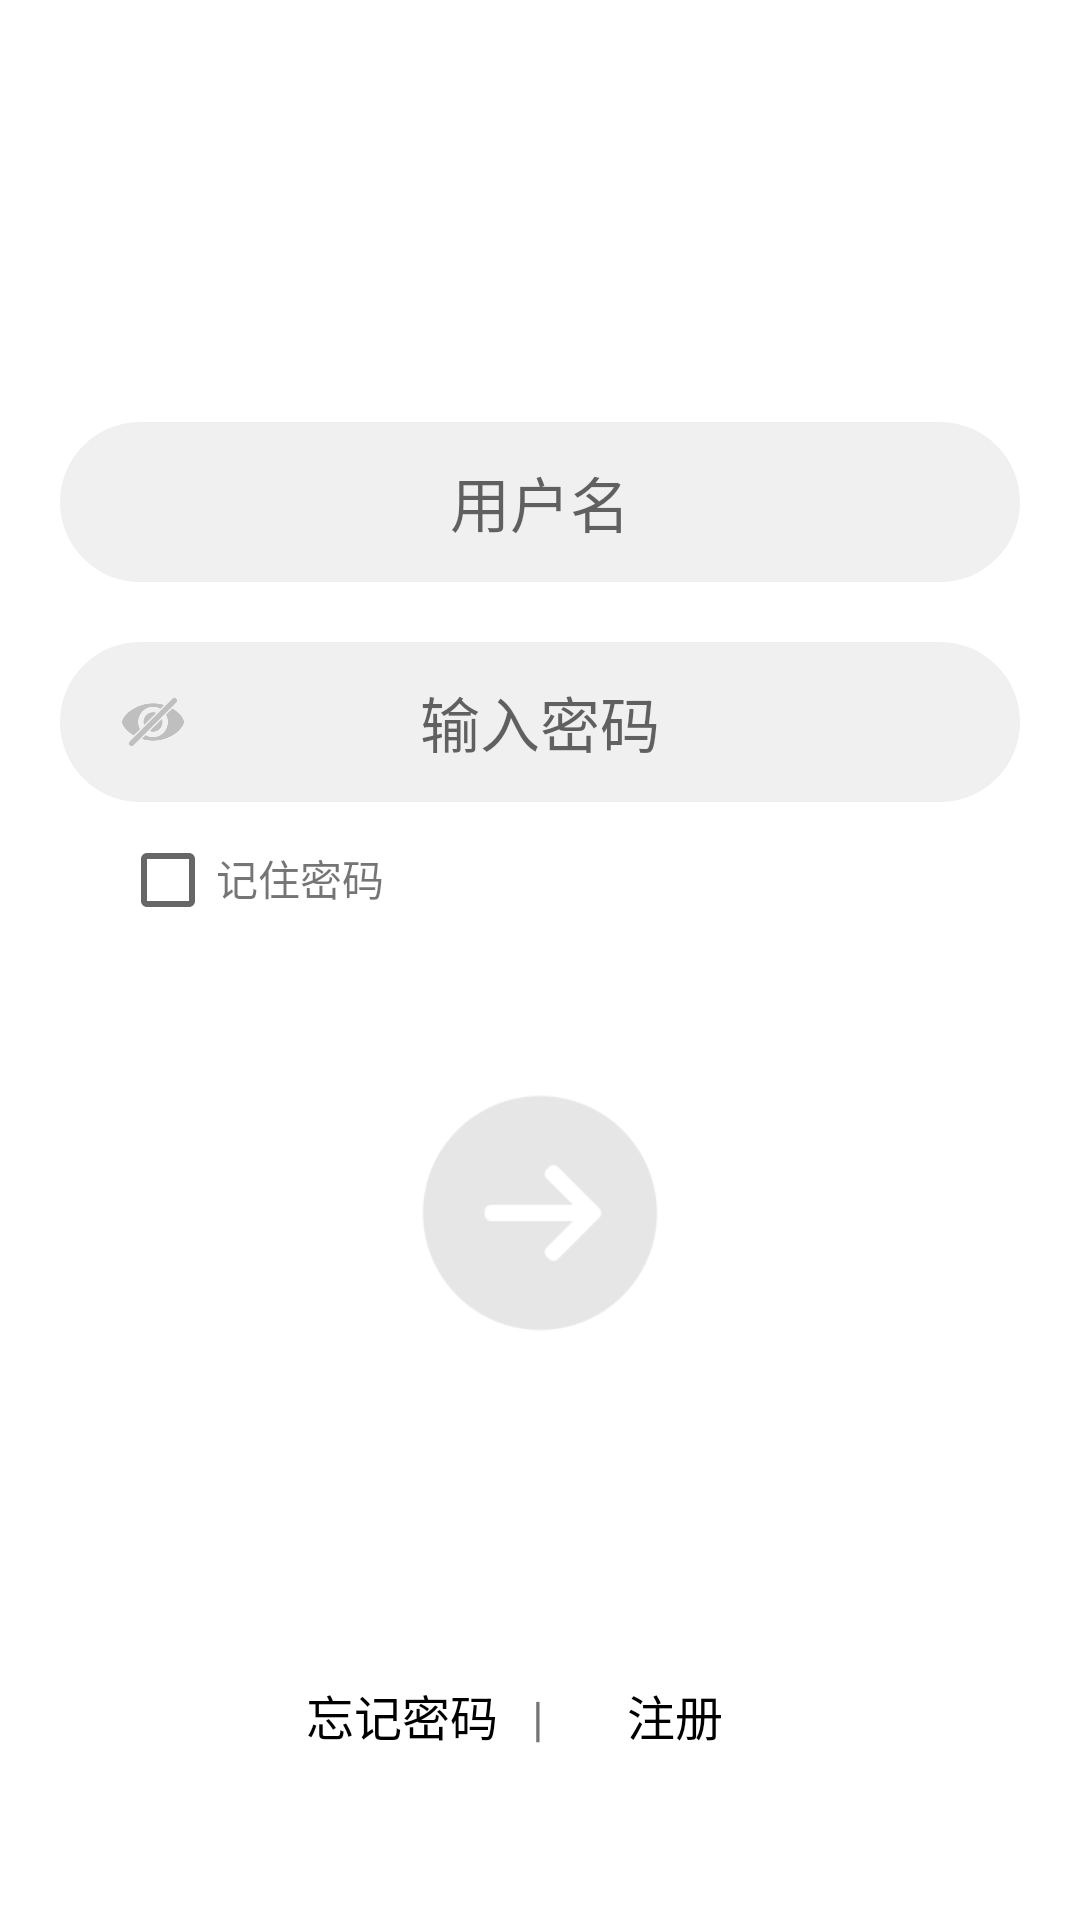

Named icons in this screenshot (1080x1920) and their centers, [x,y]:
hide: [153,722]
login: [540,1213]
